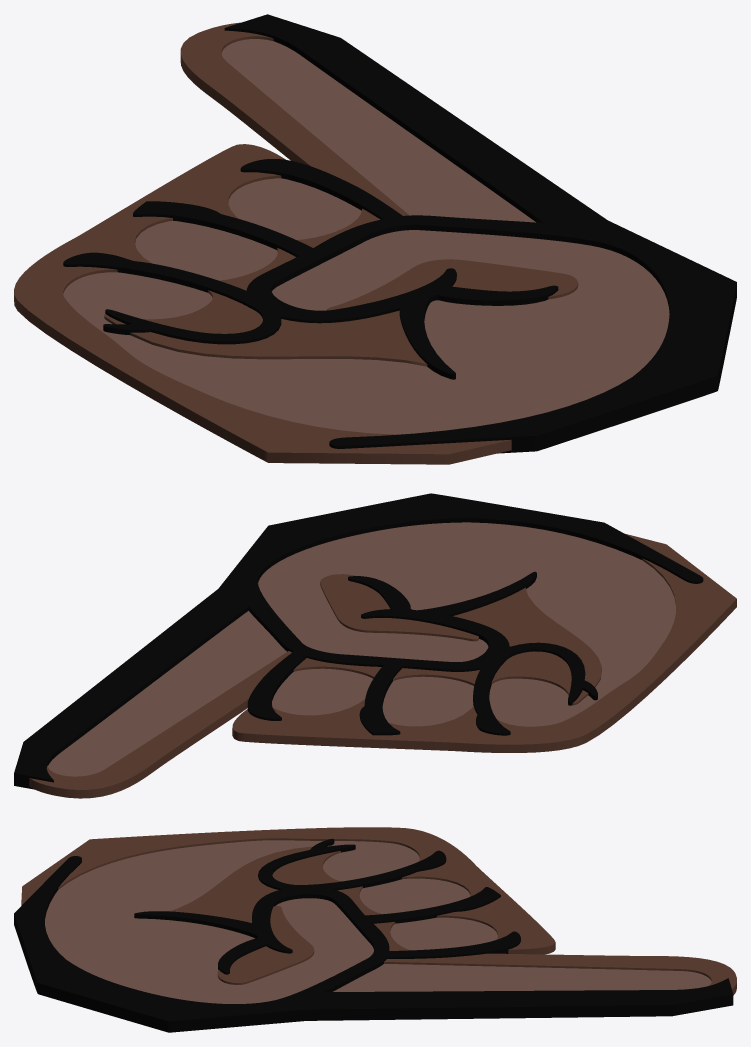
File: emoji_u261d_1f3ff.glb
3 views of the same model, one above another, from view 1: azimuth 30°, elevation 25°; view 2: azimuth 150°, elevation 25°; view 3: azimuth 270°, elevation 25° (orthographic). The views are drawn at different scales.
Parts seen in each view (by area): view 1: emoji_u261d_1f3ff; view 2: emoji_u261d_1f3ff; view 3: emoji_u261d_1f3ff.
Boxes of the visible parts, x1,y1,x2,y2 form: emoji_u261d_1f3ff: (14, 14, 736, 464); emoji_u261d_1f3ff: (14, 493, 736, 798); emoji_u261d_1f3ff: (14, 827, 736, 1032).
Bounding box in the file's own units: 0.0224 × 0.0006 × 0.035.
